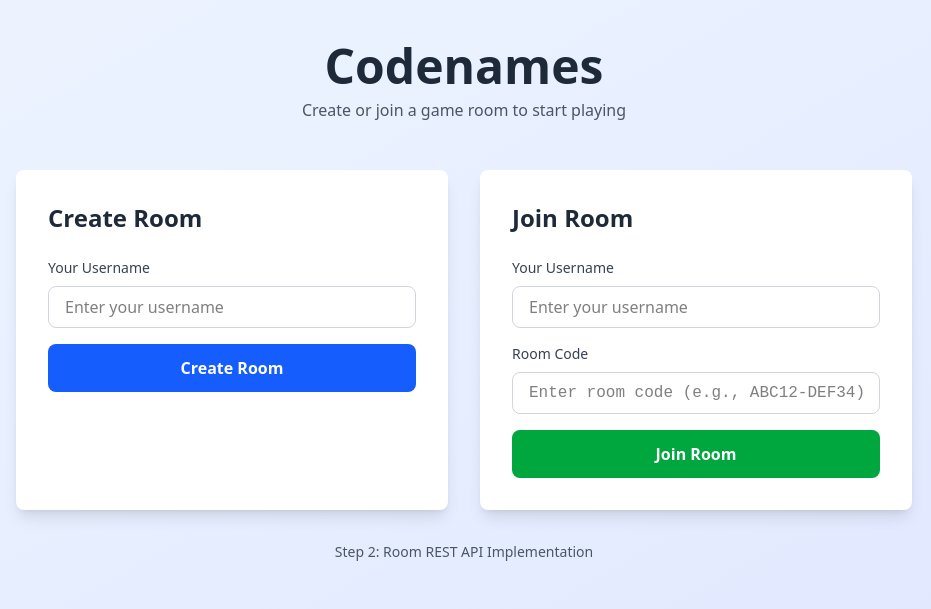
Test: HomePage › should show error when username is empty on join
Type "TEST-ROOM" into the field with placeholder "Enter room code (e.g., ABC12-DEF34)" at coordinates (696, 393), box [512,372,880,414]
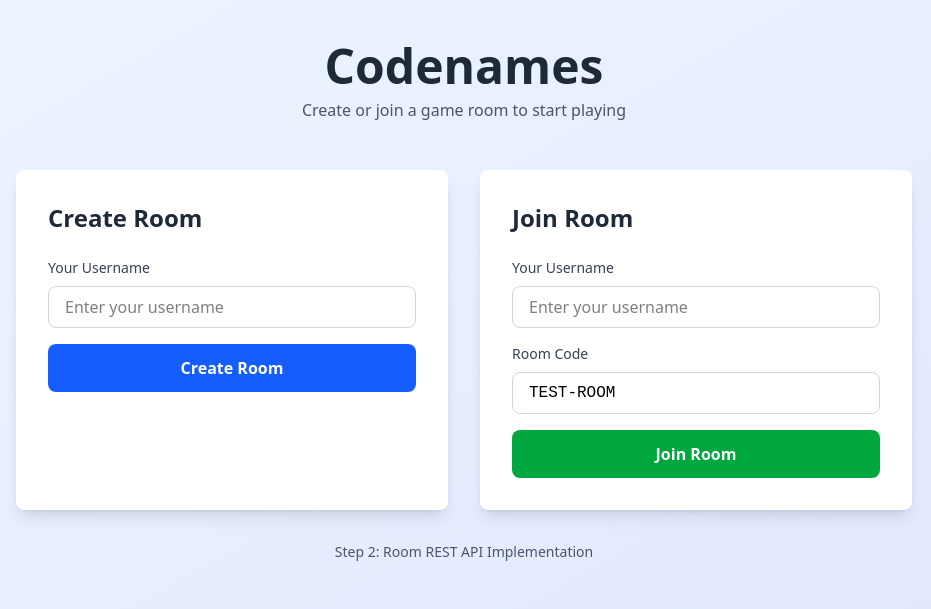
Click the button "Join Room" at coordinates (696, 454), box [512,430,880,478]
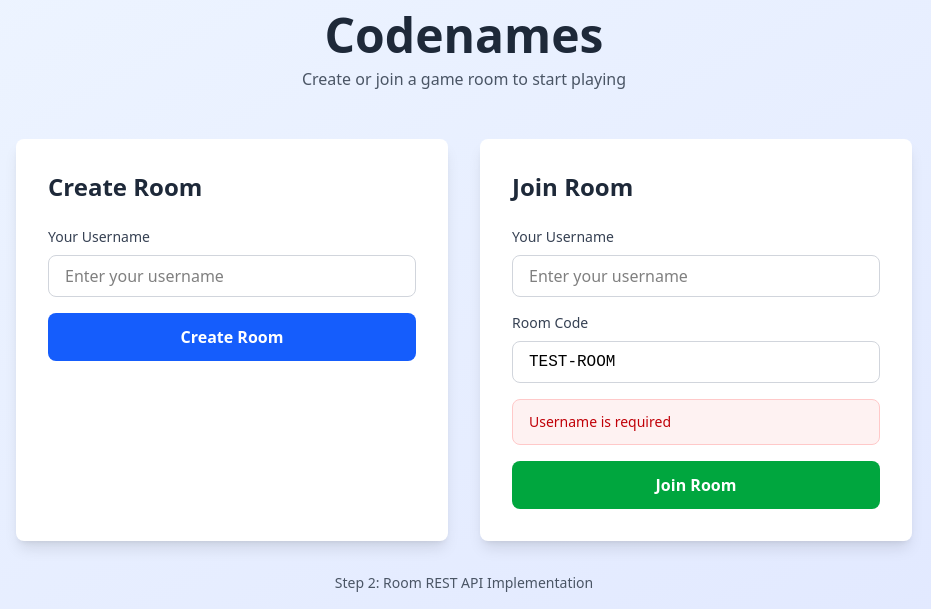
Expected: the text "Username is required" is shown, [512,399,880,445]
